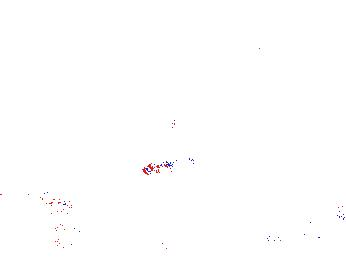red belly glassfish: (141, 154, 197, 178), (158, 114, 205, 134)
redtail glassfish: (1, 161, 78, 215), (263, 203, 346, 249), (51, 208, 101, 245)
